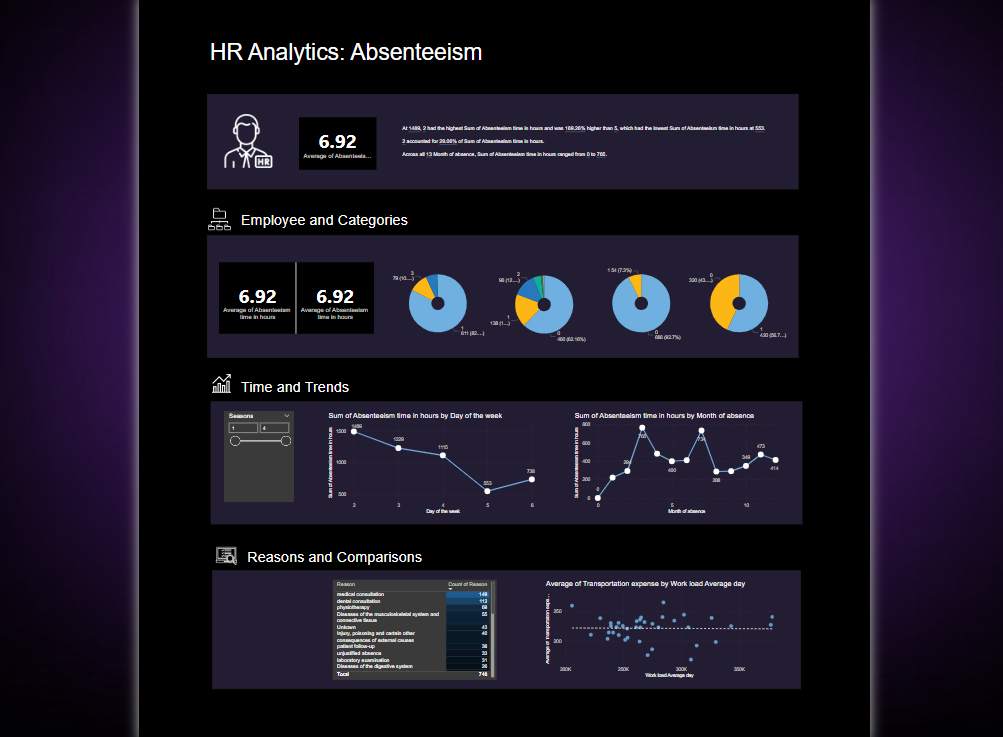

What the dashboard file says about the page in this screenshot:
{"tool":"powerbi","page":{"name":"Page 1","canvas":[1880,1920],"ordinal":0},"visuals":[{"type":"shape","box":[154.4,1467.8,1537.3,328],"z":0},{"type":"shape","box":[159.5,1054.9,1537.3,331.3],"z":1000},{"type":"shape","box":[165.3,249.6,1537.3,260.5],"z":2000},{"type":"shape","box":[165.8,608,1537.2,330.9],"z":3000},{"type":"card","fields":{"Values":["Avg(Query1.Absenteeism time in hours)"]},"box":[411.7,312,199.4,135.1],"z":4000},{"type":"donutChart","fields":{"Y":["CountNonNull(Query1.Education)"],"Category":["Query1.Education"]},"box":[612.8,686.3,309.9,211.8],"z":5000},{"type":"scatterChart","fields":{"X":["absenteeism_at_work.Work load Average day"],"Y":["absenteeism_at_work.Transportation expense"]},"box":[1042,1503.2,611.1,257.3],"z":6000},{"type":"donutChart","fields":{"Y":["CountNonNull(Query1.Social smoker)"],"Category":["Query1.Social smoker"]},"box":[1139.8,686.3,308.1,211.8],"z":7000},{"type":"donutChart","fields":{"Y":["CountNonNull(Query1.Social drinker)"],"Category":["Query1.Social drinker"]},"box":[1390.1,686.3,309.9,211.8],"z":8000},{"type":"lineChart","fields":{"Category":["absenteeism_at_work.Day of the week"],"Y":["Sum(absenteeism_at_work.Absenteeism time in hours)"]},"box":[470.7,1055.8,541,269.6],"z":9000},{"type":"lineChart","fields":{"Category":["absenteeism_at_work.Month of absence"],"Y":["Sum(absenteeism_at_work.Absenteeism time in hours)"]},"box":[1073,1055.8,537.5,269.6],"z":10000},{"type":"tableEx","fields":{"Values":["absenteeism_at_work.Reason","CountNonNull(absenteeism_at_work.Reason)"]},"box":[492.1,1503.2,421.3,257.3],"z":11000},{"type":"donutChart","fields":{"Y":["CountNonNull(absenteeism_at_work.Pet)"],"Category":["absenteeism_at_work.Pet"]},"box":[887.7,688.1,309.9,211.8],"z":12000},{"type":"card","fields":{"Values":["Avg(Query1.Absenteeism time in hours)"]},"box":[206.4,686.1,199.6,183.8],"z":13000},{"type":"card","fields":{"Values":["Avg(Query1.Absenteeism time in hours)"]},"box":[406,686.1,199.6,183.8],"z":14000},{"type":"textbox","box":[673.6,326.8,957.7,138.3],"z":15000},{"type":"shape","box":[274.7,686.1,260.9,183.8],"z":16000},{"type":"slicer","fields":{"Values":["absenteeism_at_work.Seasons"]},"box":[211.6,1048.8,182.1,276.6],"z":17000},{"type":"textbox","box":[176.9,106.1,739.7,80.4],"z":18000},{"type":"textbox","box":[266.9,553.2,450.3,54.7],"z":19000},{"type":"textbox","box":[251.5,984.8,472.8,54.7],"z":20000},{"type":"textbox","box":[273.4,1419.6,472.8,54.7],"z":21000},{"type":"image","box":[205.8,299.1,151.2,147.9],"z":22000},{"type":"image","box":[167.2,540.3,99.7,67.5],"z":23000},{"type":"image","box":[167.2,980.9,90.1,57.9],"z":24000},{"type":"image","box":[176.9,1408.6,83.6,64.3],"z":25000}]}

Visuals, with their boxes on the page's 1880x1920 design canvas (x1, y1, x2, y2). These are canvas units, not pixel positions in the 1003x737 screenshot, which may show the page scaled, cropped or inside an application window:
shape: <bbox>154, 1468, 1692, 1796</bbox>
shape: <bbox>160, 1055, 1697, 1386</bbox>
shape: <bbox>165, 250, 1703, 510</bbox>
shape: <bbox>166, 608, 1703, 939</bbox>
card - Avg(Query1.Absenteeism time in hours): <bbox>412, 312, 611, 447</bbox>
donutChart - CountNonNull(Query1.Education) x Query1.Education: <bbox>613, 686, 923, 898</bbox>
scatterChart - absenteeism_at_work.Work load Average day x absenteeism_at_work.Transportation expense: <bbox>1042, 1503, 1653, 1760</bbox>
donutChart - CountNonNull(Query1.Social smoker) x Query1.Social smoker: <bbox>1140, 686, 1448, 898</bbox>
donutChart - CountNonNull(Query1.Social drinker) x Query1.Social drinker: <bbox>1390, 686, 1700, 898</bbox>
lineChart - absenteeism_at_work.Day of the week x Sum(absenteeism_at_work.Absenteeism time in hours): <bbox>471, 1056, 1012, 1325</bbox>
lineChart - absenteeism_at_work.Month of absence x Sum(absenteeism_at_work.Absenteeism time in hours): <bbox>1073, 1056, 1610, 1325</bbox>
tableEx - absenteeism_at_work.Reason x CountNonNull(absenteeism_at_work.Reason): <bbox>492, 1503, 913, 1760</bbox>
donutChart - CountNonNull(absenteeism_at_work.Pet) x absenteeism_at_work.Pet: <bbox>888, 688, 1198, 900</bbox>
card - Avg(Query1.Absenteeism time in hours): <bbox>206, 686, 406, 870</bbox>
card - Avg(Query1.Absenteeism time in hours): <bbox>406, 686, 606, 870</bbox>
textbox: <bbox>674, 327, 1631, 465</bbox>
shape: <bbox>275, 686, 536, 870</bbox>
slicer - absenteeism_at_work.Seasons: <bbox>212, 1049, 394, 1325</bbox>
textbox: <bbox>177, 106, 917, 186</bbox>
textbox: <bbox>267, 553, 717, 608</bbox>
textbox: <bbox>252, 985, 724, 1040</bbox>
textbox: <bbox>273, 1420, 746, 1474</bbox>
image: <bbox>206, 299, 357, 447</bbox>
image: <bbox>167, 540, 267, 608</bbox>
image: <bbox>167, 981, 257, 1039</bbox>
image: <bbox>177, 1409, 260, 1473</bbox>
